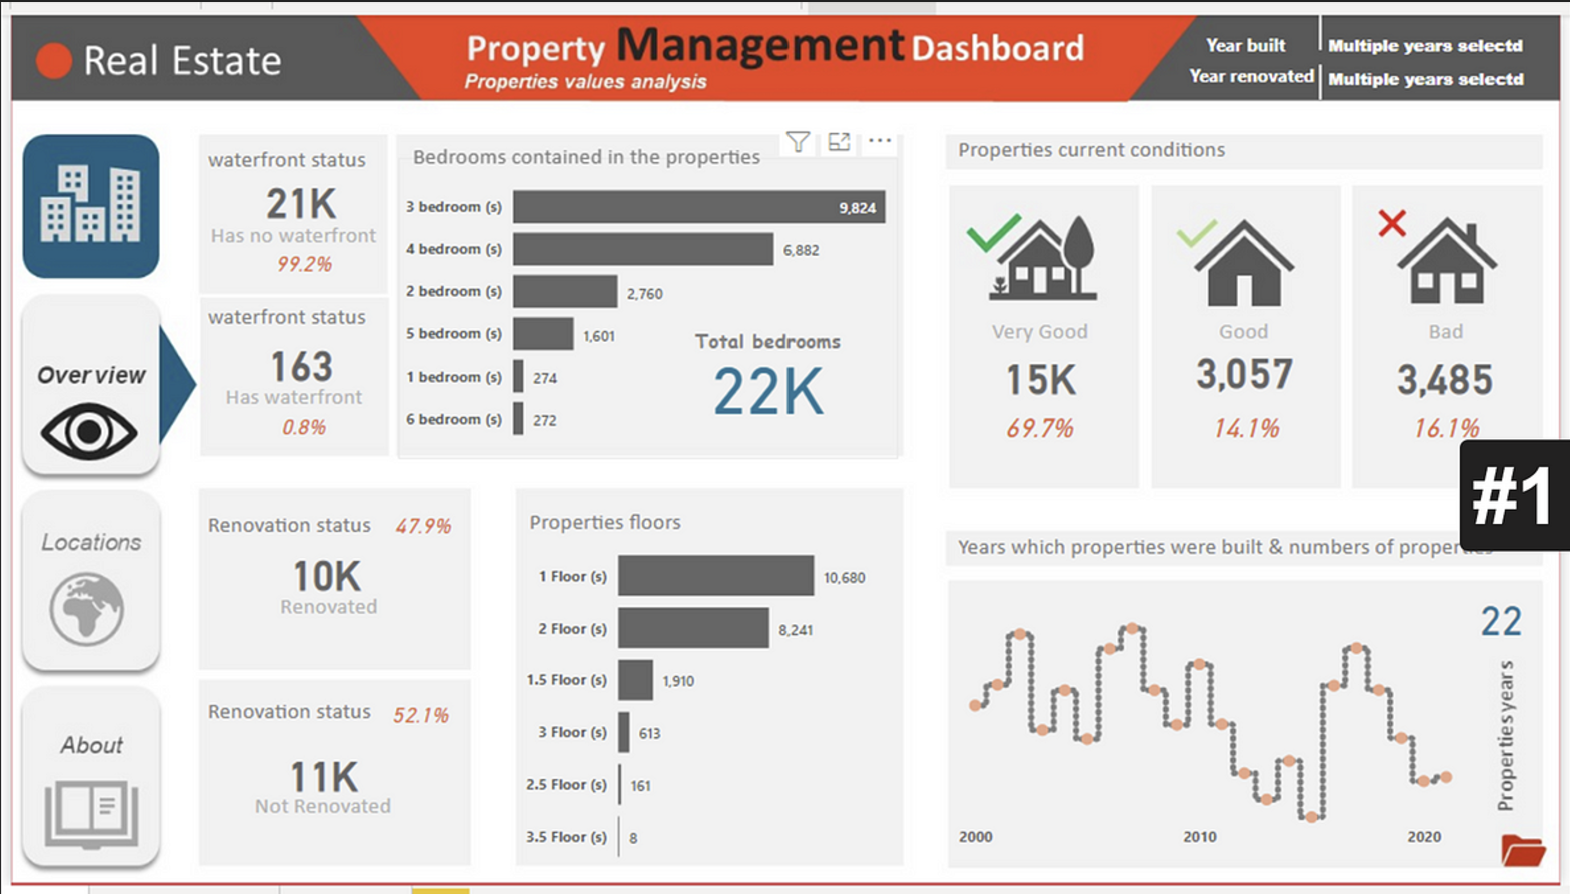

The dashboard page shown, as its layout file describes it:
{"tool":"powerbi","page":{"name":"Page 1","canvas":[1280,720],"ordinal":0},"visuals":[{"type":"barChart","fields":{"Category":["Dim_Bedroom.Bedrooms N"],"Y":["Meas Table.Tot properties"]},"box":[465.7,165.3,292.5,211.4],"z":0},{"type":"card","title":"Total Properties","fields":{"Values":["Meas Table.Tot properties"]},"box":[654.8,271.8,103.3,84.2],"z":1000},{"type":"card","title":"Waterfront Yes","fields":{"Values":["Meas Table.waterfront yes"]},"box":[295.6,165.3,138.3,54],"z":2000},{"type":"card","title":"Waterfront No","fields":{"Values":["Meas Table.waterfront no"]},"box":[296,280,138,43],"z":3000},{"type":"card","title":"No %","fields":{"Values":["Meas Table.waterfront No%"]},"box":[295.6,330.6,138.3,46.1],"z":4000},{"type":"card","title":"Yes %","fields":{"Values":["Meas Table.waterfront yes%"]},"box":[295.6,227.3,138.3,44.5],"z":5000},{"type":"card","title":"Renovated","fields":{"Values":["Meas Table.Renovated"]},"box":[296.7,406.7,168.3,53.3],"z":6000},{"type":"card","title":"Not Renovated","fields":{"Values":["Meas Table.not_renovated"]},"box":[295,546.7,170,53],"z":7000},{"type":"card","title":"Renovated","fields":{"Values":["Meas Table.renovated%"]},"box":[296.7,471.7,168.3,35],"z":8000},{"type":"card","title":"Renovated","fields":{"Values":["Meas Table.not_renovated%"]},"box":[295,613.3,168.3,35],"z":9000},{"type":"barChart","fields":{"Category":["Dim_Floor.floors"],"Y":["Meas Table.Tot properties"]},"box":[500,406.7,258.3,225],"z":10000},{"type":"lineChart","fields":{"Y":["Meas Table.Tot properties"],"Category":["FactTable.yr_built"]},"box":[800,418.3,406.7,213.3],"z":11000},{"type":"card","title":"Good","fields":{"Values":["Meas Table.good"]},"box":[953.3,261.7,123.3,51.7],"z":12000},{"type":"card","title":"Very Good","fields":{"Values":["Meas Table.very good"]},"box":[800,261.7,123.3,51.7],"z":13000},{"type":"card","title":"Bad","fields":{"Values":["Meas Table.bad"]},"box":[1105,261.7,123.3,51.7],"z":14000},{"type":"card","title":"Bad","fields":{"Values":["Meas Table.bad %"]},"box":[1105,326.7,123.3,51.7],"z":15000},{"type":"card","title":"Bad","fields":{"Values":["Meas Table.good %"]},"box":[953.3,326.7,123.3,51.7],"z":16000},{"type":"card","title":"Bad","fields":{"Values":["Meas Table.very good %"]},"box":[800,326.7,123.3,51.7],"z":17000},{"type":"actionButton","box":[1180,680,100,40],"z":18000},{"type":"actionButton","box":[100.1,553.1,111.3,127.2],"z":19000},{"type":"actionButton","box":[100.1,418,111.3,127.2],"z":20000}]}

Visuals, with their boxes in screenshot pixels (x1, y1, x2, y2), scaled from the page's 1280x720 canvas onto the 1570x894 screenshot:
barChart - Dim_Bedroom.Bedrooms N x Meas Table.Tot properties: [left=571, top=205, right=930, bottom=468]
"Total Properties" card: [left=803, top=337, right=930, bottom=442]
"Waterfront Yes" card: [left=363, top=205, right=532, bottom=272]
"Waterfront No" card: [left=363, top=348, right=532, bottom=401]
"No %" card: [left=363, top=410, right=532, bottom=468]
"Yes %" card: [left=363, top=282, right=532, bottom=337]
"Renovated" card: [left=364, top=505, right=570, bottom=571]
"Not Renovated" card: [left=362, top=679, right=570, bottom=745]
"Renovated" card: [left=364, top=586, right=570, bottom=629]
"Renovated" card: [left=362, top=762, right=568, bottom=805]
barChart - Dim_Floor.floors x Meas Table.Tot properties: [left=613, top=505, right=930, bottom=784]
lineChart - Meas Table.Tot properties x FactTable.yr_built: [left=981, top=519, right=1480, bottom=784]
"Good" card: [left=1169, top=325, right=1321, bottom=389]
"Very Good" card: [left=981, top=325, right=1132, bottom=389]
"Bad" card: [left=1355, top=325, right=1507, bottom=389]
"Bad" card: [left=1355, top=406, right=1507, bottom=470]
"Bad" card: [left=1169, top=406, right=1321, bottom=470]
"Bad" card: [left=981, top=406, right=1132, bottom=470]
actionButton: [left=1447, top=844, right=1569, bottom=893]
actionButton: [left=123, top=687, right=259, bottom=845]
actionButton: [left=123, top=519, right=259, bottom=677]
